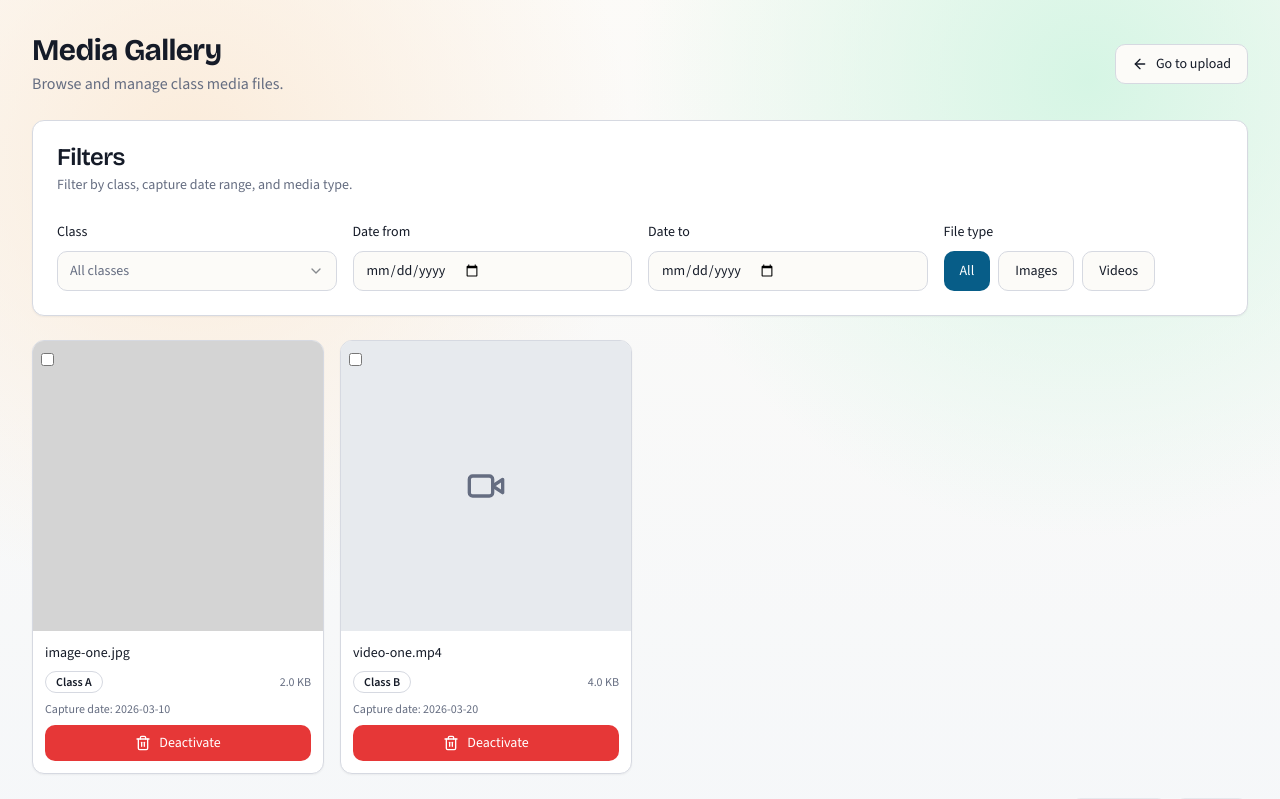
Scenario: MediaGalleryPage › filters by file type and date range
The width and height of the screenshot is (1280, 799).
Expected: the text "image-one.jpg" is shown, [45,643,130,662]
Expected: the text "video-one.mp4" is shown, [353,643,442,662]
Click the button "Images" at (1036, 271), box [998,251,1074,291]
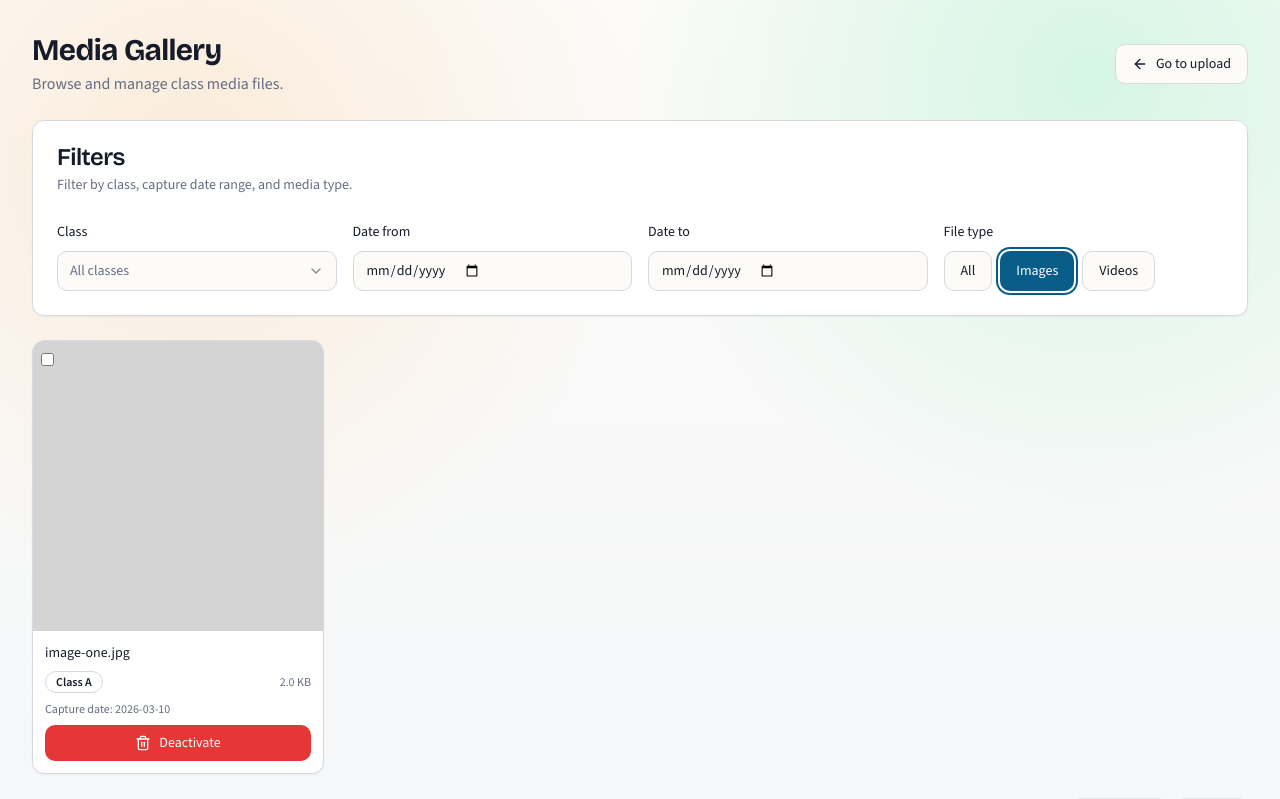
Expected: the text "image-one.jpg" is shown, [45,643,130,662]
Now the text "video-one.mp4" is gone
Click the button "All" at (968, 271), box [944,251,992,291]
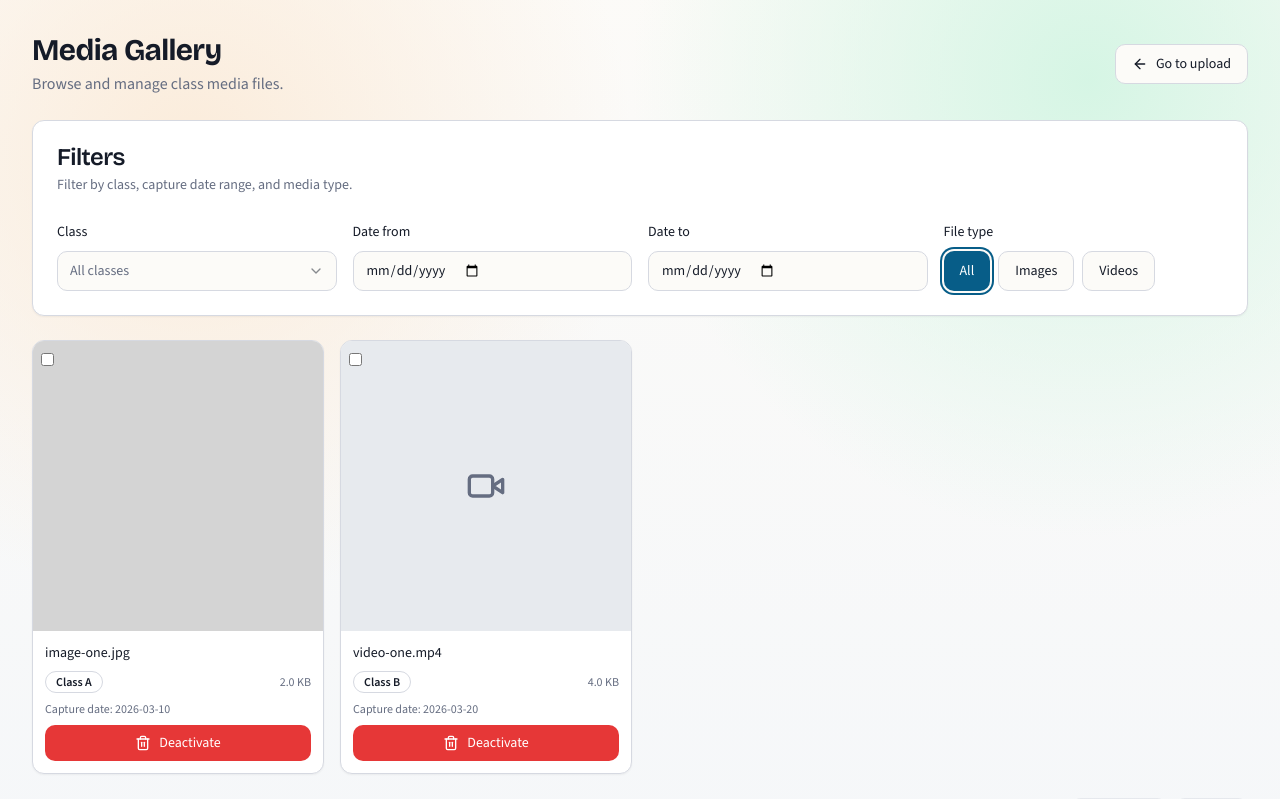
Type "2026-03-15" into the date field labelled "Date from" at (492, 271), box [352,251,632,291]
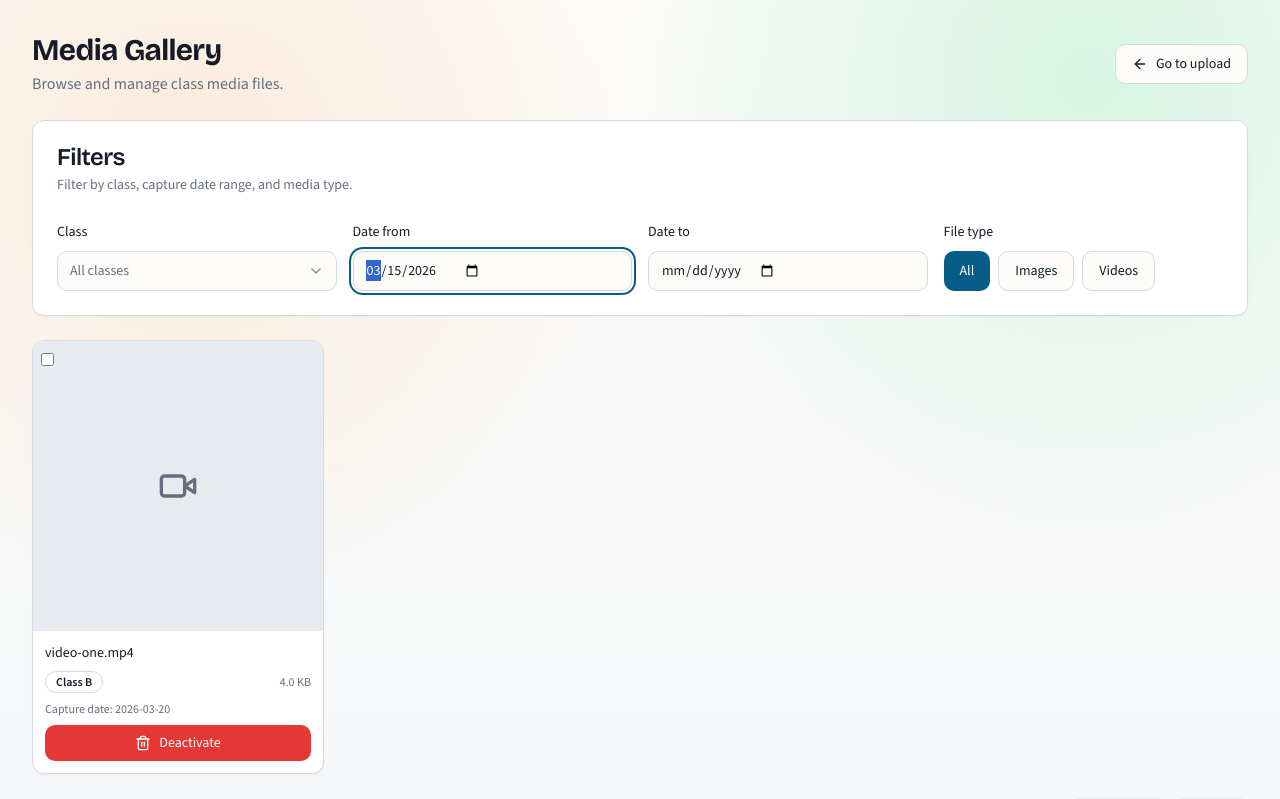
Now the text "video-one.mp4" is shown, box [45,643,134,662]
Now the text "image-one.jpg" is gone
